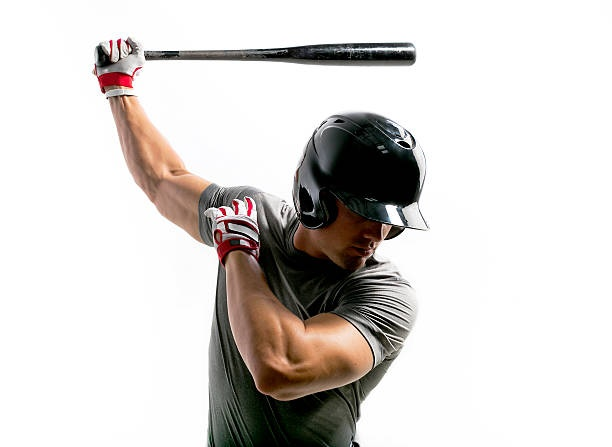bita: (121, 35, 423, 70)
